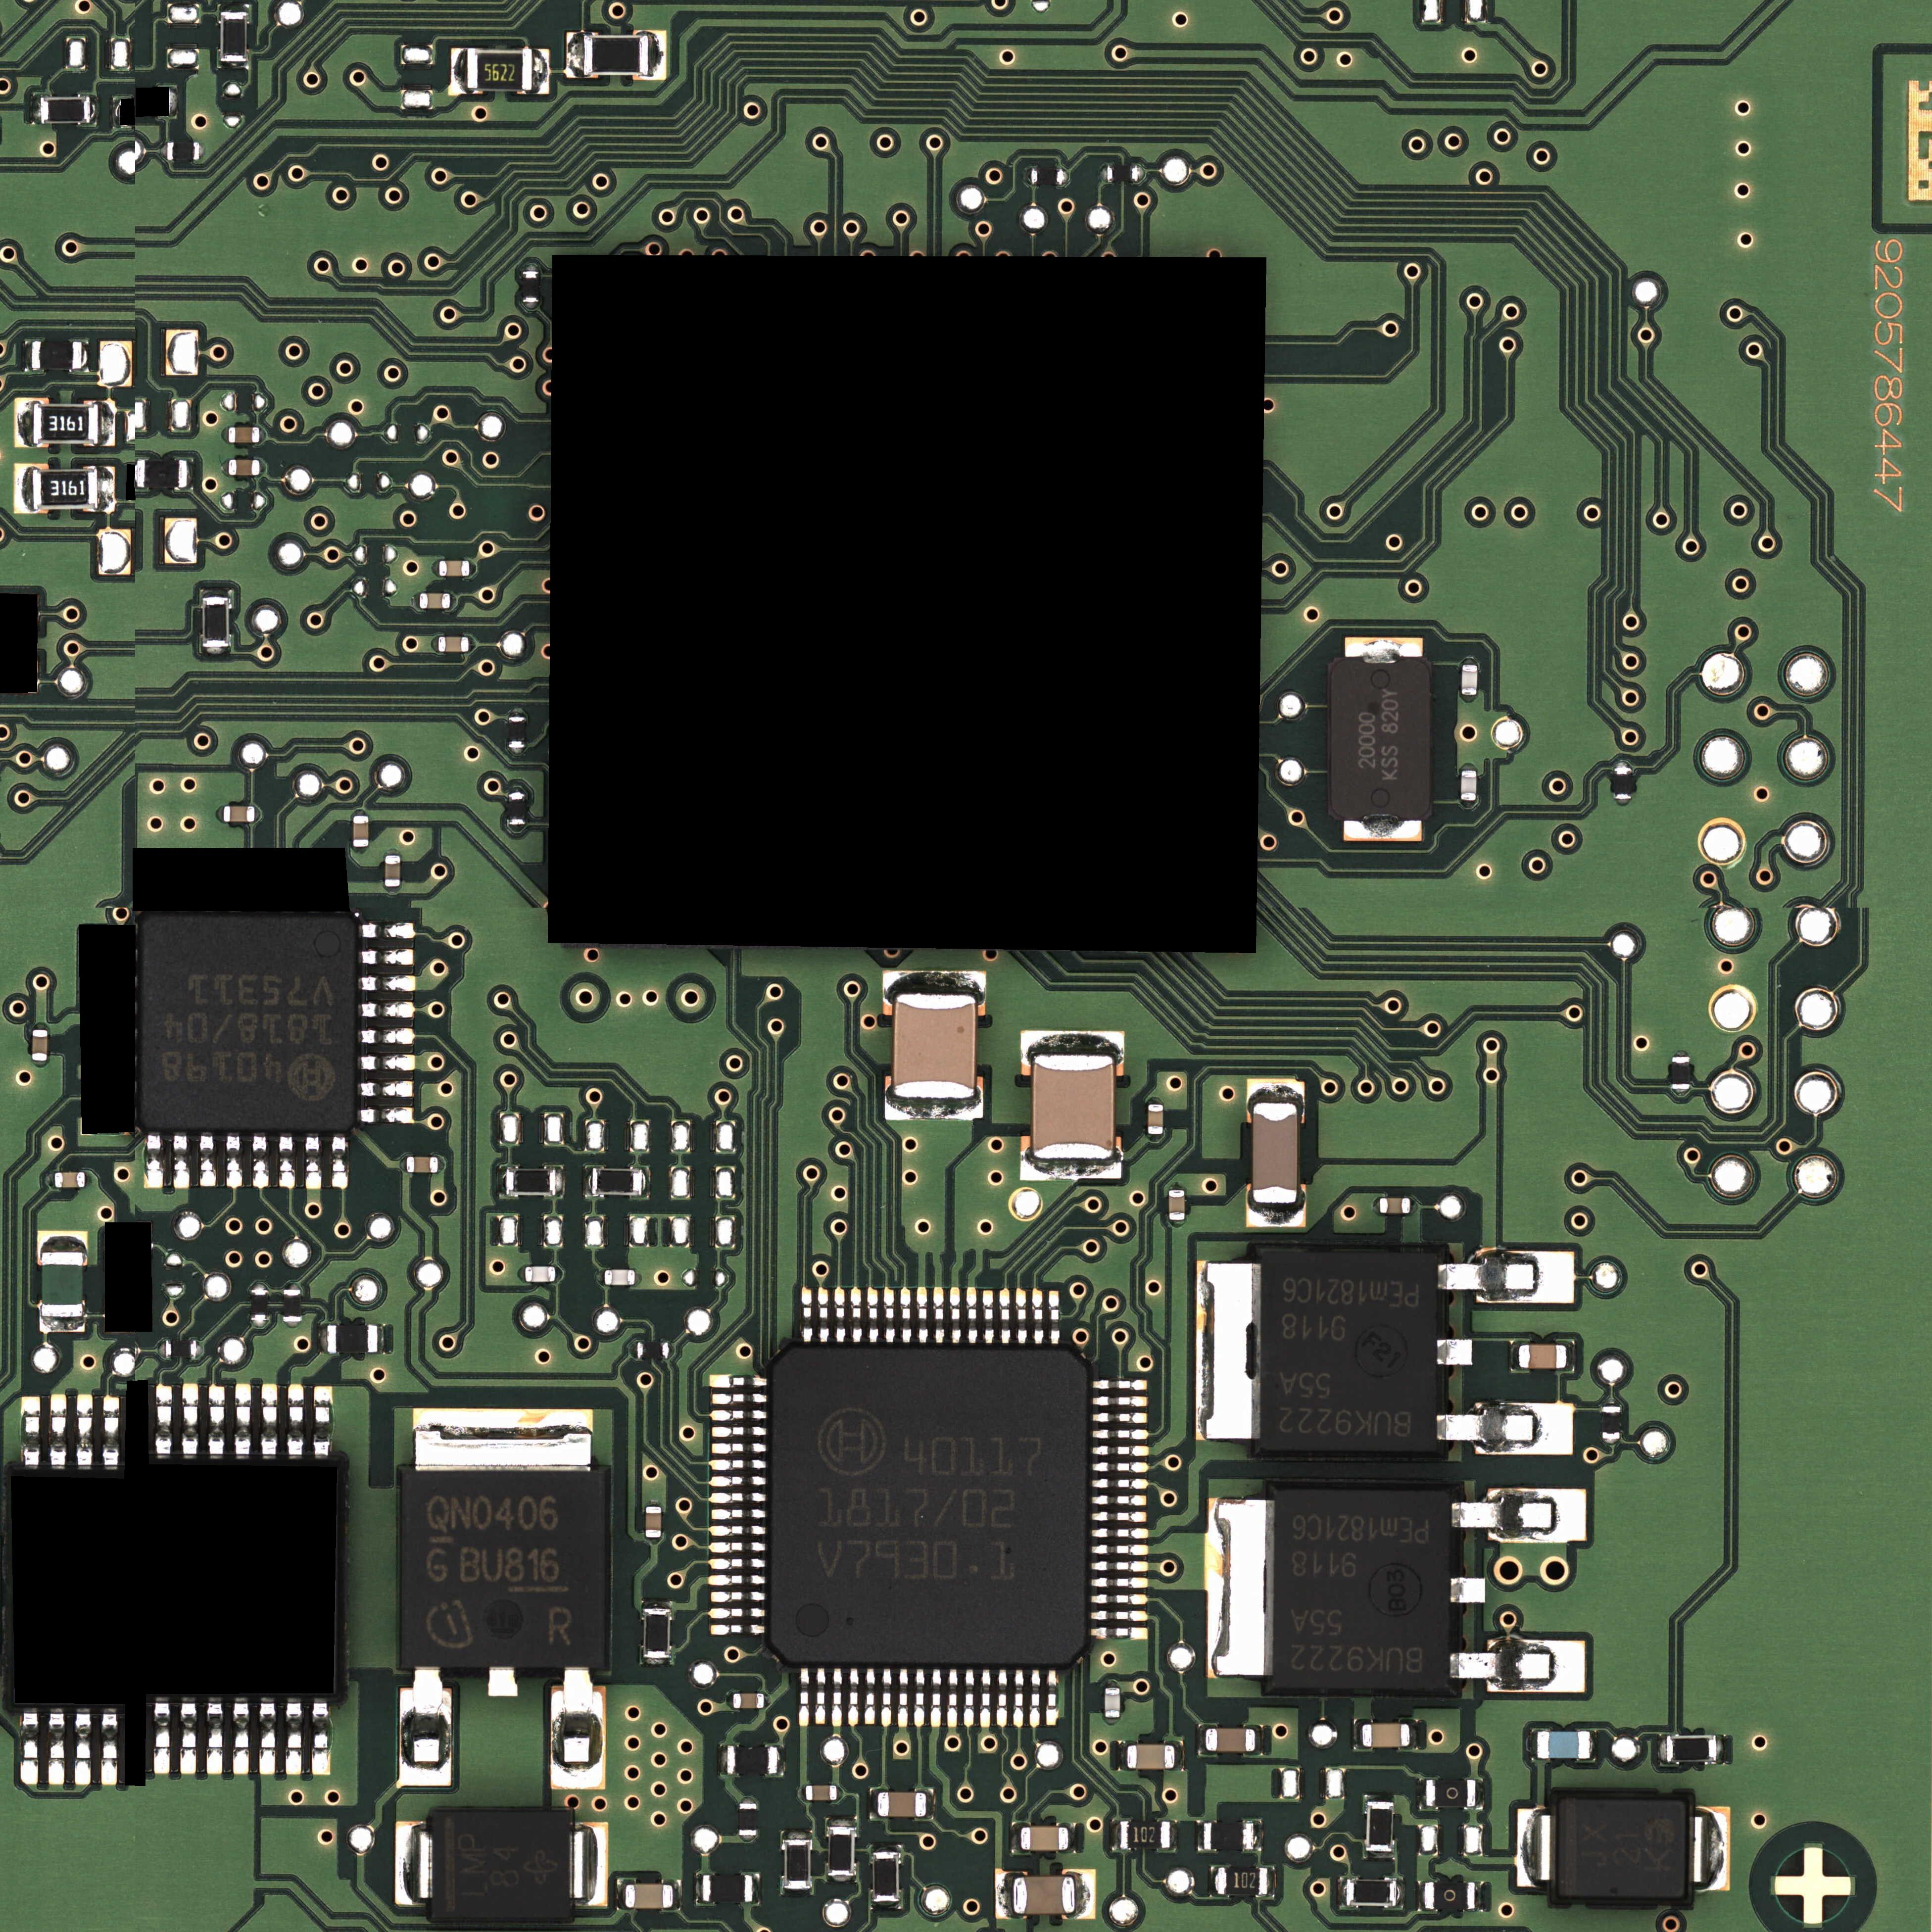Package: (773, 1348, 1086, 1665), (140, 911, 356, 1132), (400, 1470, 605, 1667), (1261, 1253, 1437, 1453), (1276, 1491, 1451, 1688), (1330, 658, 1431, 817), (432, 1812, 570, 1921), (1557, 1799, 1686, 1897), (892, 994, 977, 1099), (1031, 1054, 1116, 1159), (1251, 1104, 1299, 1203), (41, 1253, 83, 1316), (467, 50, 533, 90), (34, 403, 97, 444), (34, 469, 97, 510), (584, 35, 648, 76), (1014, 1877, 1076, 1914), (327, 1325, 379, 1353), (727, 1746, 778, 1775), (1537, 1730, 1589, 1759), (32, 341, 81, 370), (1120, 1821, 1169, 1849), (1203, 1822, 1253, 1851), (1424, 1882, 1476, 1909), (1217, 1868, 1269, 1895), (138, 460, 186, 488), (784, 1840, 810, 1890), (506, 1169, 556, 1196), (702, 1875, 752, 1902), (593, 1169, 642, 1196), (1426, 1780, 1476, 1806), (1667, 1736, 1716, 1762), (828, 1828, 855, 1875), (221, 12, 246, 62), (203, 598, 228, 648), (41, 97, 90, 122), (878, 1792, 927, 1817), (644, 1608, 669, 1658), (874, 1852, 899, 1902), (1346, 1881, 1396, 1905), (625, 1884, 672, 1909), (1127, 1744, 1175, 1769), (1362, 1723, 1410, 1748), (1368, 1803, 1392, 1851), (1021, 1826, 1069, 1851), (1205, 1729, 1254, 1752), (1520, 1345, 1566, 1369), (168, 142, 200, 161), (1614, 768, 1633, 800), (740, 1803, 757, 1836), (1672, 1056, 1690, 1090), (508, 717, 525, 748), (508, 793, 525, 824), (283, 1290, 301, 1322), (1603, 1407, 1621, 1438), (522, 272, 540, 303), (166, 1341, 196, 1359), (251, 1290, 269, 1320), (1108, 165, 1138, 182), (223, 807, 255, 823), (228, 460, 260, 476), (732, 1693, 764, 1709), (805, 1785, 837, 1801), (637, 1343, 669, 1359), (1031, 168, 1063, 184), (439, 637, 469, 653), (439, 561, 469, 577), (419, 593, 449, 609), (228, 426, 258, 442), (646, 1507, 662, 1537), (407, 1157, 437, 1173), (55, 1171, 85, 1187), (32, 1030, 48, 1060), (1461, 665, 1477, 695), (1169, 1191, 1185, 1221), (1380, 1198, 1410, 1214), (354, 816, 368, 847), (1461, 771, 1477, 800), (386, 856, 400, 886), (605, 1270, 635, 1284), (525, 1267, 556, 1281), (1148, 1104, 1162, 1134), (1106, 1688, 1120, 1718)
Solder: (1205, 1499, 1274, 1679), (1194, 1260, 1261, 1440), (414, 1408, 593, 1470), (1438, 1249, 1575, 1304), (1451, 1638, 1587, 1693), (1451, 1488, 1587, 1543), (1437, 1403, 1575, 1456), (550, 1667, 607, 1790), (400, 1667, 453, 1787), (1686, 1806, 1730, 1891), (570, 1821, 609, 1907), (395, 1821, 433, 1905), (1516, 1808, 1555, 1888), (1021, 1030, 1123, 1054), (883, 970, 987, 993), (885, 1099, 984, 1122), (1019, 1159, 1122, 1180), (1343, 817, 1422, 842), (313, 1382, 336, 1456), (1345, 637, 1422, 658), (19, 1394, 41, 1470), (1246, 1203, 1306, 1228), (180, 1382, 200, 1458), (207, 1382, 226, 1458), (287, 1382, 306, 1456), (50, 1392, 67, 1468), (103, 1392, 120, 1468), (154, 1382, 172, 1458), (234, 1382, 251, 1458), (1247, 1079, 1306, 1102), (76, 1392, 94, 1467), (260, 1382, 278, 1456), (21, 1711, 39, 1785), (101, 1714, 119, 1789), (154, 1702, 172, 1776), (179, 1702, 196, 1776), (232, 1702, 249, 1776), (207, 1702, 225, 1776), (313, 1702, 331, 1776), (258, 1702, 276, 1776), (48, 1714, 65, 1787), (73, 1713, 90, 1785), (287, 1704, 304, 1776), (143, 1132, 165, 1187), (359, 1000, 416, 1019), (359, 1026, 416, 1046), (359, 1053, 416, 1072), (198, 1134, 218, 1189), (249, 1134, 269, 1189), (329, 1134, 349, 1189), (278, 1134, 297, 1189), (359, 1079, 418, 1097), (359, 1106, 418, 1123), (359, 922, 416, 939), (359, 948, 416, 966), (359, 975, 416, 993), (14, 464, 34, 515), (37, 1231, 88, 1251), (1076, 1868, 1095, 1920), (1437, 1339, 1474, 1366), (173, 1134, 191, 1189), (225, 1134, 242, 1189), (304, 1134, 322, 1189), (14, 398, 34, 448), (994, 1870, 1014, 1920), (488, 1667, 518, 1698), (1451, 1576, 1486, 1603), (97, 465, 117, 513), (649, 30, 667, 80), (1090, 1626, 1148, 1640), (566, 32, 584, 78), (533, 48, 550, 94), (708, 1491, 768, 1504), (708, 1525, 768, 1537), (708, 1476, 768, 1488), (708, 1458, 768, 1470), (708, 1541, 768, 1553), (897, 1668, 909, 1729), (962, 1668, 975, 1729), (978, 1668, 991, 1729), (1090, 1527, 1150, 1539), (451, 48, 467, 94), (39, 1316, 85, 1332), (709, 1408, 768, 1421), (709, 1375, 768, 1387), (709, 1392, 768, 1405), (932, 1286, 945, 1345), (709, 1442, 768, 1454), (709, 1507, 768, 1520), (798, 1668, 810, 1727), (708, 1557, 766, 1569), (847, 1668, 860, 1727), (708, 1575, 766, 1587), (947, 1670, 959, 1729), (708, 1606, 766, 1619), (708, 1591, 766, 1603), (1092, 1428, 1150, 1440), (996, 1670, 1008, 1729), (1092, 1461, 1150, 1474), (1090, 1511, 1148, 1523), (1090, 1576, 1148, 1589), (1090, 1610, 1148, 1622), (99, 402, 115, 446), (817, 1286, 830, 1343), (833, 1286, 846, 1343), (863, 1668, 876, 1725), (709, 1624, 766, 1637), (1031, 1288, 1044, 1345), (1092, 1412, 1148, 1424), (982, 1288, 994, 1345), (1046, 1670, 1058, 1727), (1092, 1477, 1148, 1490), (1092, 1560, 1148, 1573), (883, 1288, 895, 1343), (915, 1668, 925, 1729), (916, 1286, 927, 1345), (950, 1286, 961, 1345), (966, 1286, 977, 1345), (901, 1286, 911, 1345), (931, 1670, 941, 1729), (832, 1668, 842, 1727), (881, 1668, 892, 1727), (1092, 1445, 1150, 1456), (1014, 1670, 1024, 1729), (1030, 1670, 1040, 1729), (1090, 1495, 1148, 1506), (1090, 1594, 1148, 1605), (711, 1426, 768, 1437), (801, 1286, 812, 1343), (867, 1286, 878, 1343), (851, 1286, 862, 1343), (816, 1668, 826, 1725), (1049, 1290, 1060, 1346), (1092, 1380, 1148, 1391), (1092, 1396, 1148, 1407), (1016, 1288, 1026, 1345), (1000, 1288, 1010, 1345), (1092, 1545, 1148, 1555), (1010, 1821, 1021, 1852), (1254, 1725, 1265, 1757), (1566, 1339, 1576, 1371), (30, 94, 41, 124), (377, 1323, 387, 1353), (1116, 1741, 1127, 1771), (218, 4, 251, 12), (200, 589, 234, 598), (584, 1164, 593, 1198), (1362, 1851, 1396, 1859), (1589, 1729, 1598, 1762), (216, 62, 249, 71), (170, 85, 179, 119), (23, 340, 32, 372), (318, 1322, 327, 1353), (556, 1166, 564, 1198), (780, 1829, 812, 1838), (826, 1817, 858, 1826), (869, 1787, 878, 1819), (925, 1789, 934, 1821), (640, 1658, 672, 1667), (672, 1879, 681, 1911), (718, 1744, 727, 1776), (616, 1879, 625, 1911), (870, 1902, 902, 1911), (870, 1844, 902, 1852), (1396, 1877, 1405, 1909), (1175, 1739, 1184, 1771), (1069, 1822, 1077, 1854), (1111, 1819, 1120, 1851), (1509, 1339, 1518, 1371), (1476, 1778, 1484, 1810), (1476, 1881, 1484, 1913), (1529, 1729, 1537, 1760), (1716, 1734, 1725, 1766), (642, 1599, 672, 1608), (1410, 1720, 1419, 1750), (1353, 1720, 1362, 1750), (1338, 1877, 1346, 1907), (1198, 1725, 1207, 1753), (780, 1890, 814, 1897), (1254, 1819, 1261, 1852), (1210, 1865, 1217, 1898), (1269, 1865, 1276, 1898), (83, 340, 90, 372), (642, 1166, 649, 1198), (778, 1744, 786, 1776), (1419, 1778, 1426, 1810), (1196, 1821, 1203, 1852), (90, 96, 97, 126), (202, 648, 232, 655), (499, 1166, 506, 1196), (754, 1874, 761, 1904), (695, 1874, 702, 1904), (826, 1875, 856, 1882), (1364, 1794, 1394, 1801), (1171, 1821, 1178, 1851), (1417, 1881, 1424, 1911), (1660, 1734, 1667, 1764), (188, 460, 193, 492), (522, 264, 540, 272), (508, 824, 525, 833), (508, 784, 525, 793), (157, 1341, 166, 1357), (510, 708, 525, 717), (1104, 1679, 1120, 1688), (1615, 759, 1631, 768), (255, 805, 262, 823), (218, 805, 225, 823), (251, 1320, 269, 1327), (522, 303, 540, 310), (508, 748, 525, 755), (598, 1269, 605, 1286), (556, 1265, 563, 1283), (518, 1265, 525, 1283), (725, 1691, 732, 1709), (1603, 1399, 1621, 1407), (1603, 1438, 1621, 1445), (221, 426, 228, 442), (221, 460, 228, 476), (384, 886, 400, 893), (432, 637, 439, 653), (32, 1060, 48, 1067), (196, 1341, 203, 1357), (32, 1023, 48, 1030), (251, 1283, 267, 1290), (437, 1157, 444, 1173), (285, 1283, 301, 1290), (400, 1157, 407, 1173), (48, 1171, 55, 1187), (85, 1171, 92, 1187), (669, 1343, 676, 1359), (630, 1343, 637, 1359), (800, 1785, 807, 1801), (646, 1537, 662, 1545), (1138, 166, 1145, 182), (1373, 1198, 1380, 1214), (1148, 1134, 1164, 1141), (1461, 695, 1477, 702), (1461, 763, 1477, 770), (1615, 798, 1631, 805), (258, 460, 265, 474), (386, 849, 400, 856), (1148, 1097, 1162, 1104), (1461, 801, 1476, 809), (1463, 658, 1477, 665), (1169, 1184, 1184, 1191), (352, 847, 370, 853), (283, 1322, 301, 1327), (740, 1798, 757, 1803), (740, 1836, 757, 1842), (1672, 1090, 1690, 1095), (260, 426, 265, 442), (200, 143, 205, 159), (161, 143, 166, 159), (433, 561, 439, 577), (469, 637, 474, 653), (469, 561, 474, 577), (449, 593, 455, 609), (414, 593, 419, 609), (635, 1270, 640, 1286), (646, 1500, 662, 1506), (837, 1785, 842, 1801), (1100, 166, 1106, 182), (1024, 168, 1030, 184), (1169, 1221, 1185, 1226), (1410, 1198, 1415, 1214), (1104, 1718, 1120, 1723), (354, 810, 368, 816), (1063, 170, 1069, 184), (1674, 1051, 1688, 1056)
